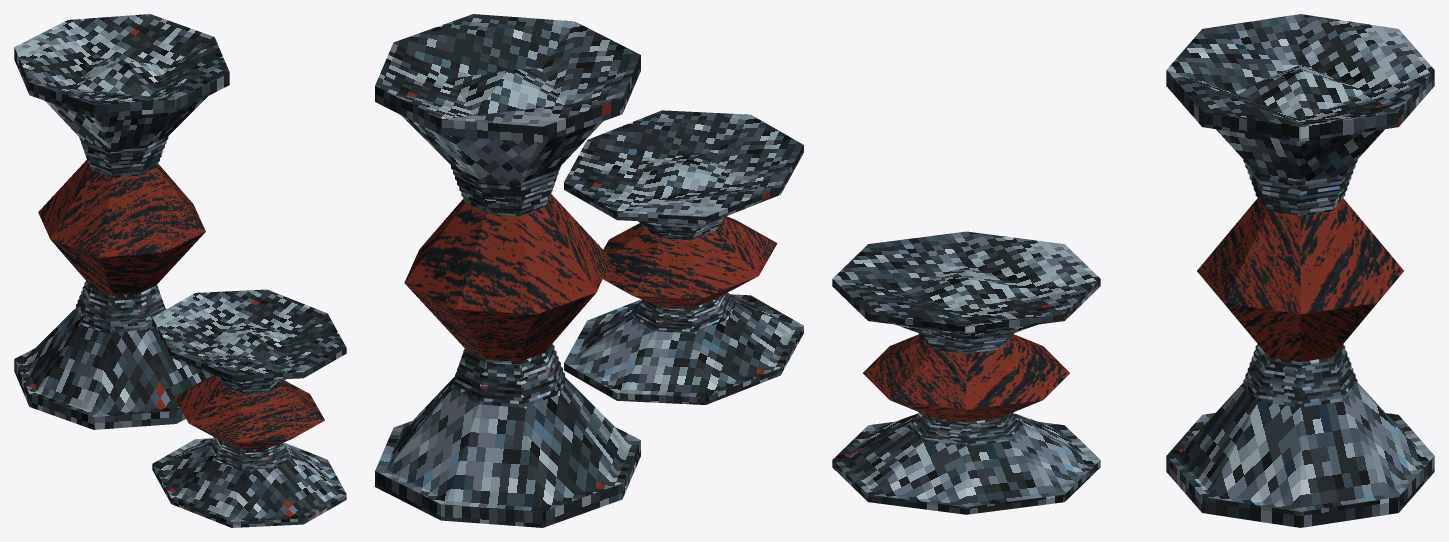
The model's file is Generator.fbx.
3 views of the same model, side by side, from view 1: azimuth 30°, elevation 25°; view 2: azimuth 150°, elevation 25°; view 3: azimuth 270°, elevation 25° (orthographic). The views are drawn at different scales.
Visible parts, largest first — view 1: genPillar, genPillarSmall; view 2: genPillar, genPillarSmall; view 3: genPillar, genPillarSmall.
Part boxes in pixels (<box>): genPillar: <box>14,14,229,429</box>; genPillarSmall: <box>152,289,346,527</box>; genPillar: <box>375,14,640,527</box>; genPillarSmall: <box>564,110,803,404</box>; genPillar: <box>1166,14,1434,527</box>; genPillarSmall: <box>832,231,1100,514</box>.
Bounding box in the file's own units: 638 × 1450 × 1068.
Materials: 2 (2 with a texture image).
